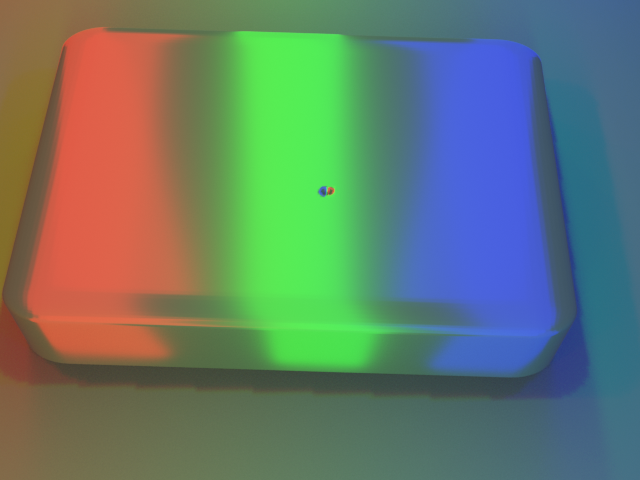dent: (307, 171, 344, 213)
